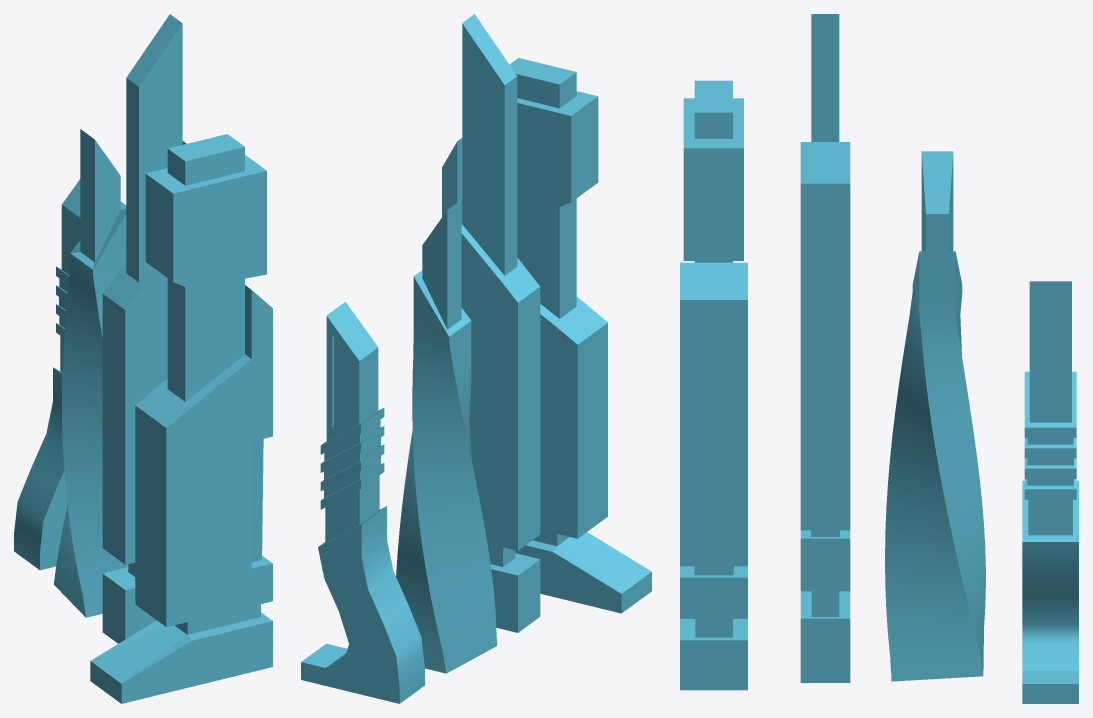
File: Buildings.fbx
3 renders of one model, left to right at view 1: azimuth 30°, elevation 25°; view 2: azimuth 150°, elevation 25°; view 3: azimuth 270°, elevation 25°, orthographic. The views are drawn at different scales.
Parts seen in each view (by area): view 1: pCube4, pCube3, pCube2, pCube1; view 2: pCube4, pCube3, pCube2, pCube1; view 3: pCube4, pCube2, pCube3, pCube1.
Part boxes in pixels (<box>): pCube4: <box>90,134,272,703</box>; pCube3: <box>102,14,186,643</box>; pCube2: <box>54,129,128,617</box>; pCube1: <box>14,179,80,570</box>; pCube4: <box>509,58,651,613</box>; pCube3: <box>442,14,540,632</box>; pCube2: <box>396,200,496,673</box>; pCube1: <box>301,302,424,703</box>; pCube4: <box>680,80,747,690</box>; pCube2: <box>885,151,985,681</box>; pCube3: <box>800,14,850,682</box>; pCube1: <box>1022,281,1078,703</box>.
Size of the model in its own units: 4.47 by 14.64 by 8.01.
